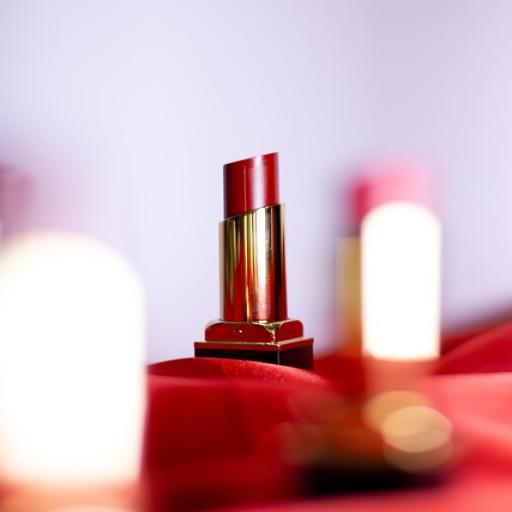lipstick: (195, 153, 312, 369)
